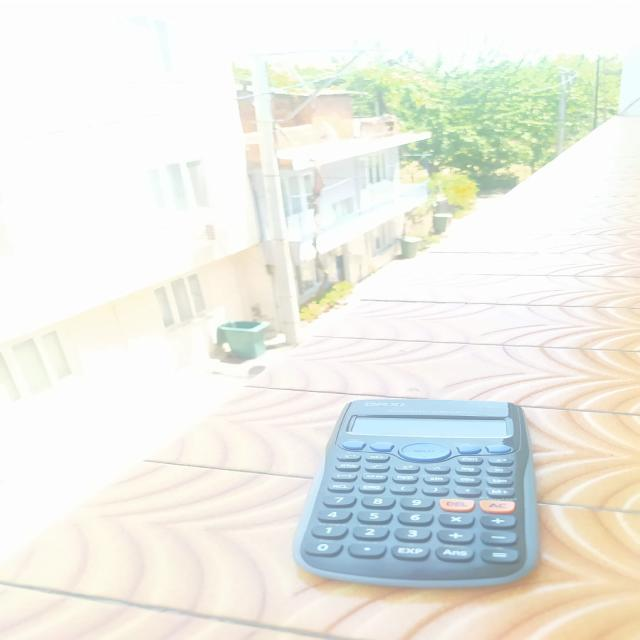Calculator: (311, 394, 534, 592)
